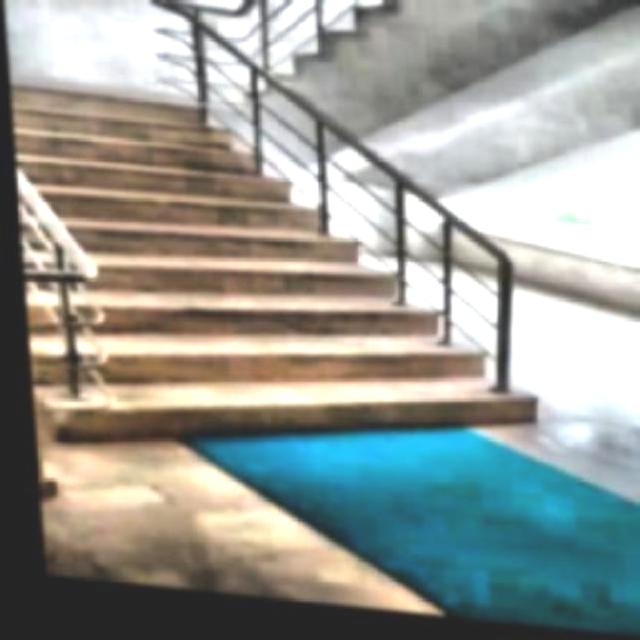stair: (9, 79, 564, 488)
